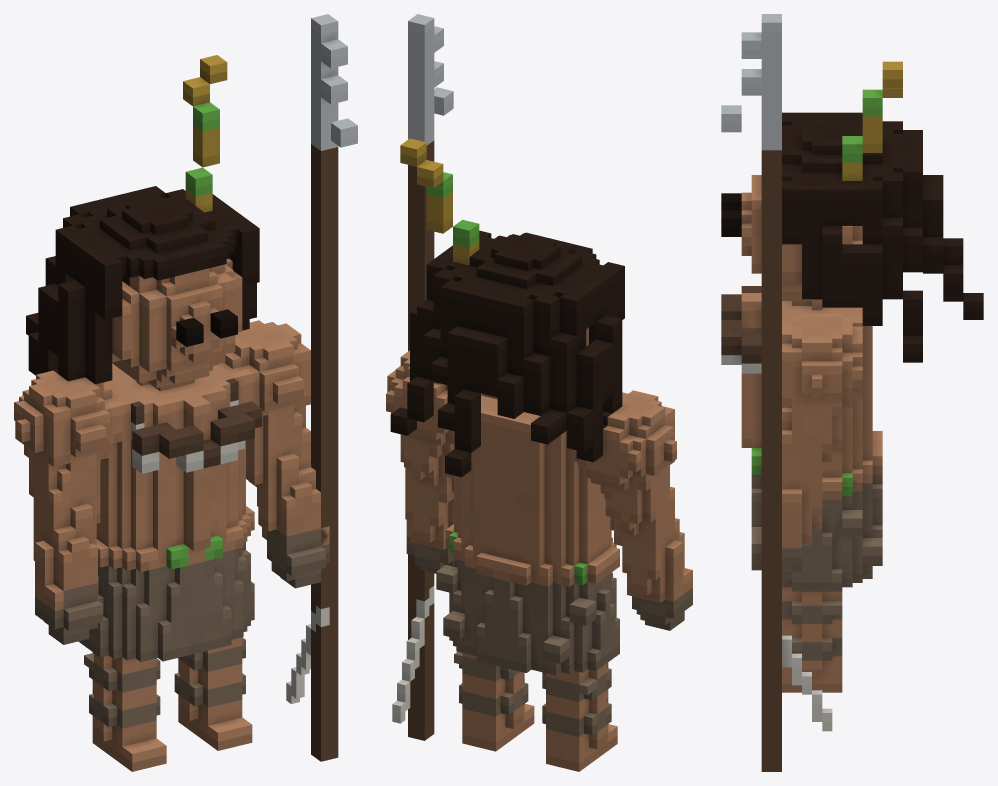
Rendered from u_moine__trappeur.glb.
The picture shows the model from 3 angles, left to right: view 1: azimuth 30°, elevation 25°; view 2: azimuth 150°, elevation 25°; view 3: azimuth 270°, elevation 25°; orthographic projection. The views are drawn at different scales.
Parts seen in each view (by area): view 1: moine_body, moine_weapon; view 2: moine_body, moine_weapon; view 3: moine_body, moine_weapon.
Part boxes in pixels (x1,y1,x2,y2): moine_body: (14, 55, 329, 771); moine_weapon: (286, 14, 357, 761); moine_body: (386, 138, 692, 771); moine_weapon: (392, 14, 453, 740); moine_body: (721, 61, 983, 692); moine_weapon: (721, 14, 832, 771).
Bounding box in the file's own units: 0.85 × 2.05 × 0.65.
